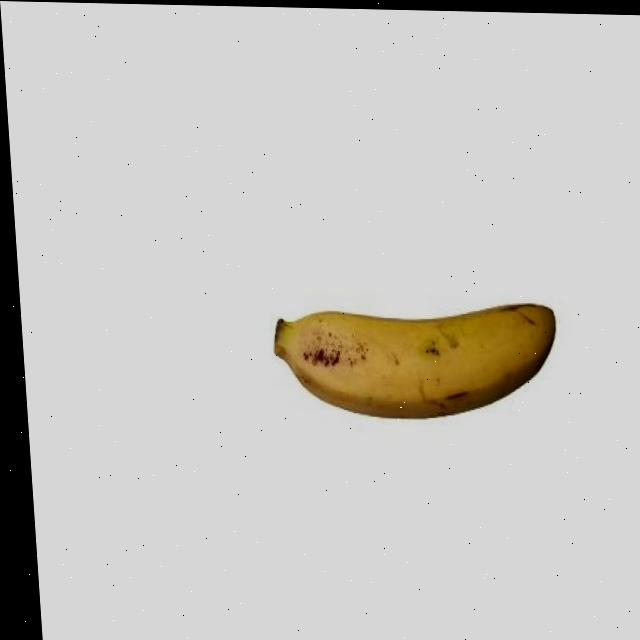banana: (267, 285, 569, 431)
